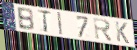7: (76, 15, 90, 39)
B: (16, 7, 36, 32)
I: (56, 11, 64, 36)
K: (114, 20, 131, 45)
R: (92, 17, 114, 43)
T: (36, 9, 53, 34)
